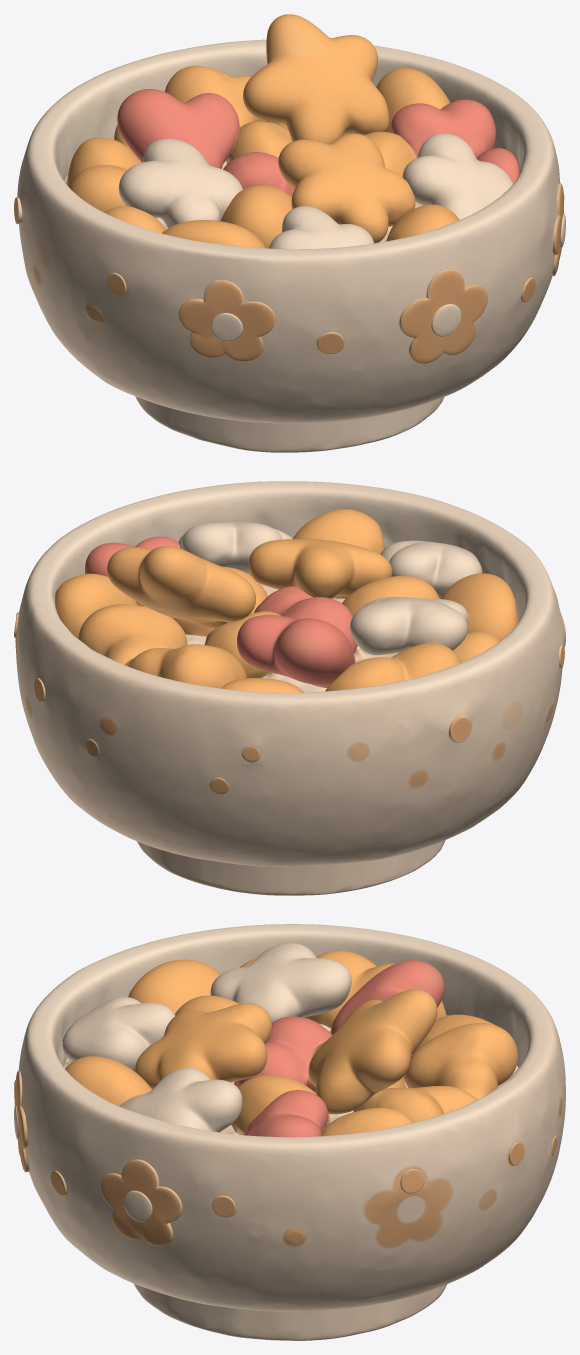
File: bowl.glb
3 renders of one model, top to bottom at view 1: azimuth 30°, elevation 25°; view 2: azimuth 150°, elevation 25°; view 3: azimuth 270°, elevation 25°, orthographic.
Size of the model in its own units: 1.9 by 1.2 by 1.9.
Materials: 1 (1 with a texture image).
